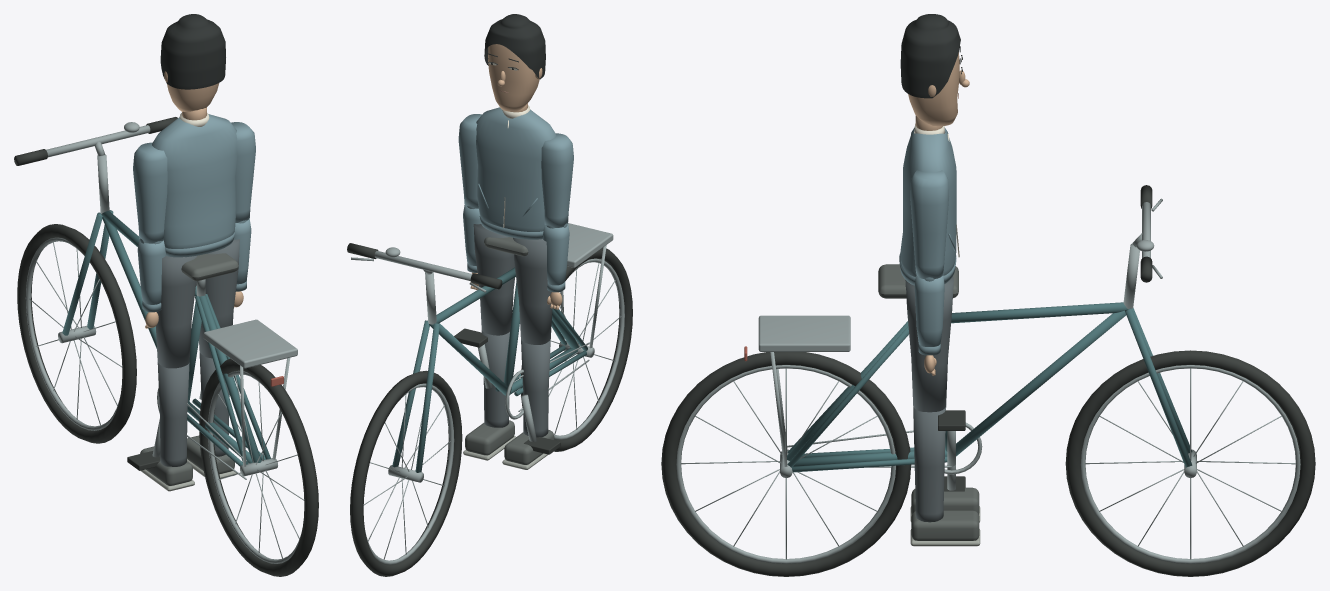
The model's file is ambient_cyclist.glb.
The picture shows the model from 3 angles, left to right: view 1: azimuth 30°, elevation 25°; view 2: azimuth 150°, elevation 25°; view 3: azimuth 270°, elevation 25°; orthographic projection. The views are drawn at different scales.
Visible parts, largest first — view 1: QuietClothTorso, Fork, Tyre, Tyre.001, Bell, Brow, TrouserThigh, Axle, Sleeve, Knee, Axle.001, TrouserThigh.001 (+11 smaller); view 2: QuietClothTorso, Fork, Tyre, Bell, TrouserThigh, TrouserThigh.001, Axle, Sleeve, Tyre.001, AdultFace, Brow, Knee (+13 smaller); view 3: Tyre, Tyre.001, Fork, Bell, Axle, Axle.001, Brow, QuietClothTorso, Sleeve.001, Knee.001, TrouserThigh.001, ElbowTransition.001 (+4 smaller).
Part boxes in pixels (left/top/right/bottom): QuietClothTorso: left=152, top=114, right=237, bottom=257; Fork: left=62, top=210, right=270, bottom=466; Tyre: left=17, top=224, right=136, bottom=443; Tyre.001: left=199, top=358, right=318, bottom=576; Bell: left=46, top=122, right=297, bottom=479; Brow: left=160, top=14, right=225, bottom=89; TrouserThigh: left=155, top=255, right=197, bottom=368; Axle: left=25, top=237, right=122, bottom=430; Sleeve: left=133, top=142, right=167, bottom=243; Knee: left=157, top=362, right=189, bottom=466; Axle.001: left=207, top=370, right=304, bottom=563; TrouserThigh.001: left=196, top=239, right=239, bottom=358; QuietClothTorso: left=476, top=107, right=556, bottom=239; Fork: left=392, top=267, right=587, bottom=472; Tyre: left=350, top=370, right=462, bottom=576; Bell: left=351, top=223, right=613, bottom=419; TrouserThigh: left=513, top=237, right=552, bottom=344; TrouserThigh.001: left=473, top=224, right=514, bottom=335; Axle: left=363, top=383, right=454, bottom=564; Sleeve: left=541, top=133, right=573, bottom=227; Tyre.001: left=521, top=247, right=632, bottom=451; AdultFace: left=488, top=44, right=542, bottom=111; Brow: left=484, top=14, right=545, bottom=79; Knee: left=521, top=340, right=550, bottom=437; Tyre: left=1065, top=350, right=1315, bottom=576; Tyre.001: left=661, top=352, right=911, bottom=576; Fork: left=787, top=302, right=1192, bottom=472; Bell: left=758, top=198, right=1162, bottom=474; Axle: left=1080, top=365, right=1300, bottom=563; Axle.001: left=676, top=365, right=895, bottom=563; Brow: left=900, top=14, right=960, bottom=98; QuietClothTorso: left=900, top=128, right=956, bottom=285; Sleeve.001: left=910, top=170, right=948, bottom=278; Knee.001: left=913, top=405, right=946, bottom=522; TrouserThigh.001: left=905, top=276, right=953, bottom=412; ElbowTransition.001: left=914, top=272, right=944, bottom=346.
Bounding box in the file's own units: 0.56 × 1.68 × 1.78.
